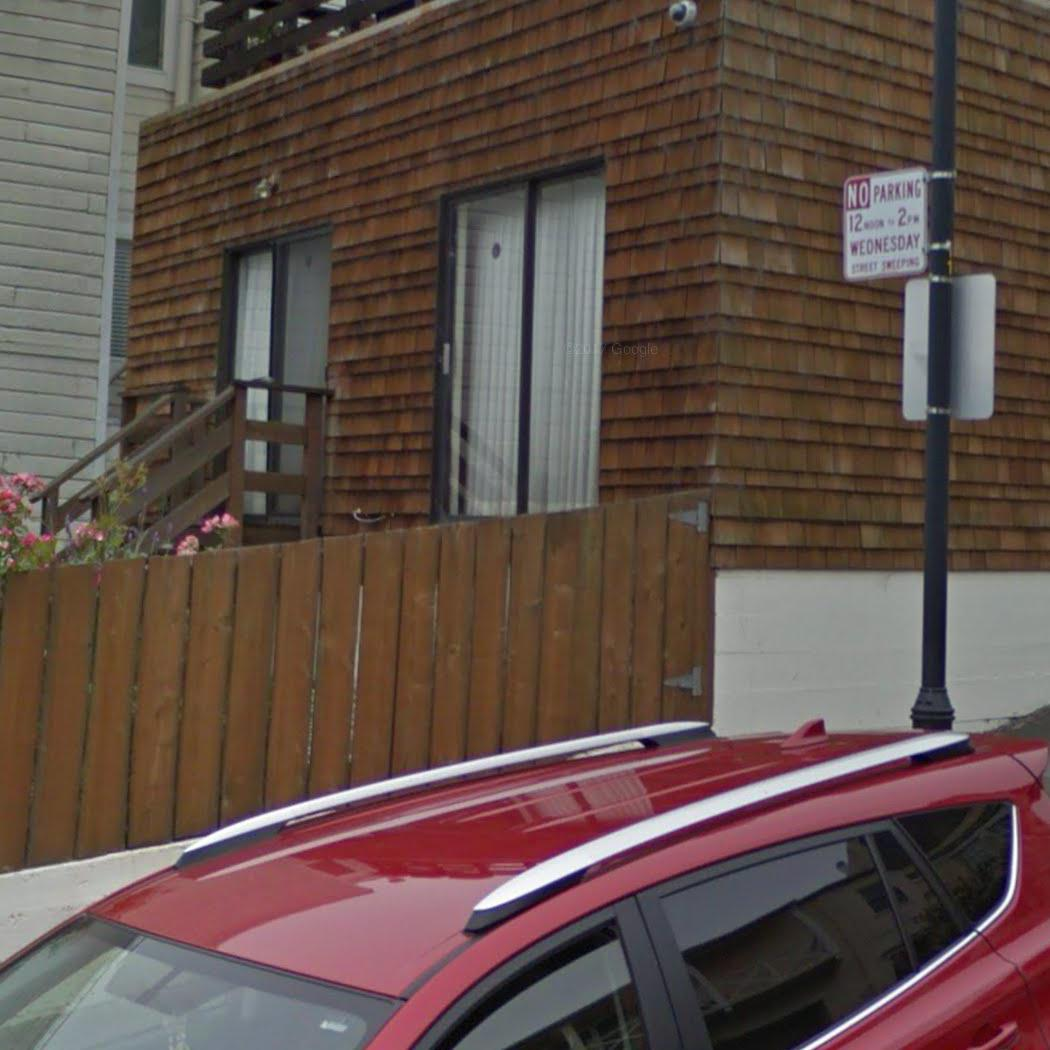No Parking: (835, 164, 935, 285)
